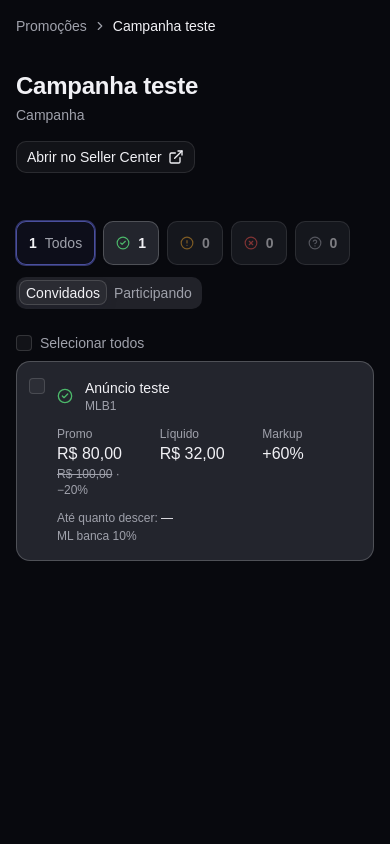
Test case: PromocaoDetalhe › mostra líquido e markup no cartão mobile e abre o sheet ao clicar
Expected: the text "R$ 32,00" is shown, [160,445,225,462]
Expected: the text "+60%" is shown, [262,445,304,462]
Step 1. Click the button that starts with "Anúncio teste" → (195, 461), box [17,362,373,560]
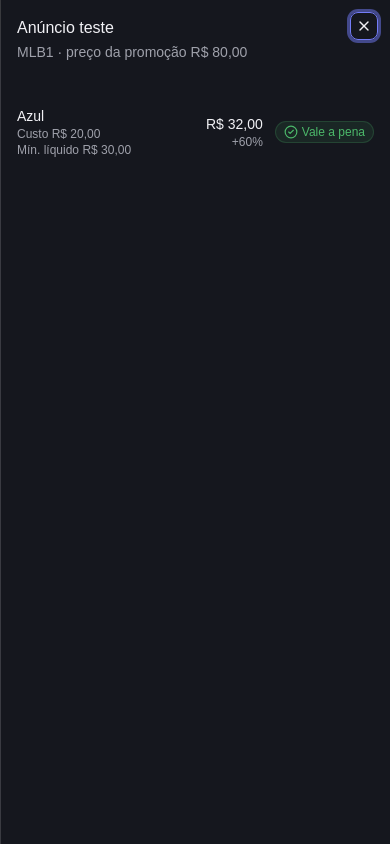
Now the heading "Anúncio teste" is shown, box [17,19,114,36]
